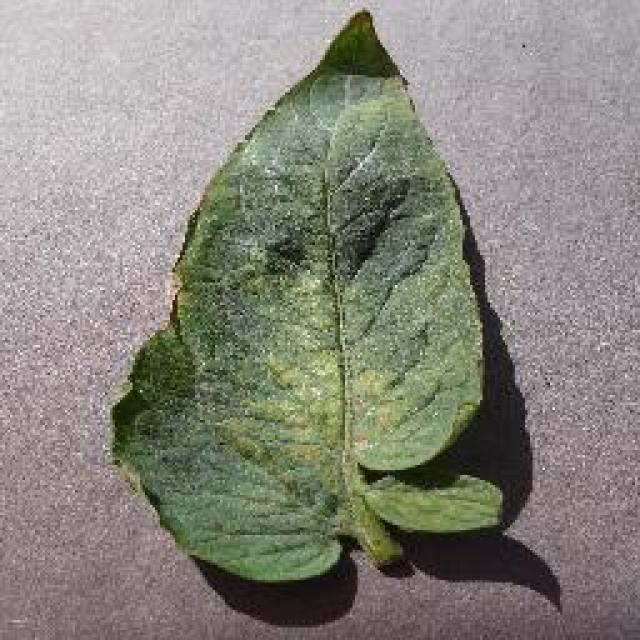Tomato___Spider_mites Two-spotted_spider_mite: (108, 10, 500, 580)
